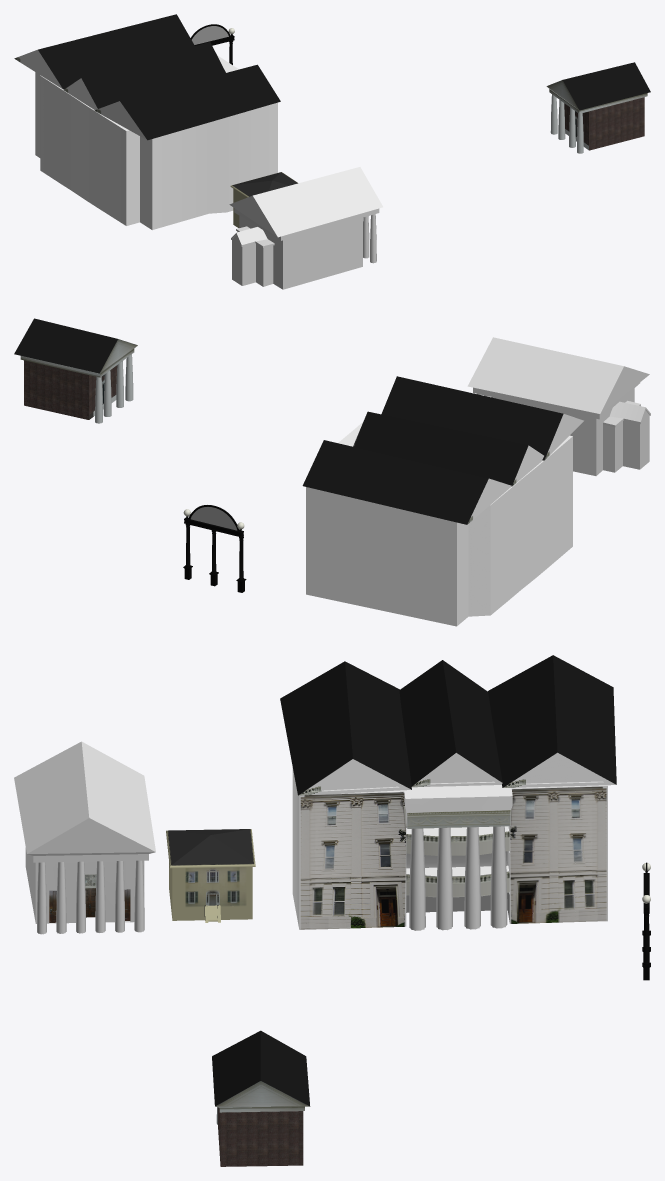
Rendered from set.fbx.
The picture shows the model from 3 angles, top to bottom: view 1: azimuth 30°, elevation 25°; view 2: azimuth 150°, elevation 25°; view 3: azimuth 270°, elevation 25°; orthographic projection. The views are drawn at different scales.
Parts seen in each view (by area): view 1: HolmesHunter, chapel, phiKappa, Chapel, Demosthenian, ChapelPillars, polySurface13; view 2: HolmesHunter, chapel, phiKappa, Chapel, polySurface13; view 3: HolmesHunter, chapel, phiKappa, Demosthenian, ChapelPillars, HHcolumn2, HHcolumn1, HHcolumn3, HHcolumn4.
Part boxes in pixels (x1,y1,x2,y2): HolmesHunter: (14,14,280,229); chapel: (229,167,382,289); phiKappa: (546,62,650,153); Chapel: (231,226,274,286); Demosthenian: (230,172,298,227); ChapelPillars: (363,214,376,263); polySurface13: (192,26,228,44); HolmesHunter: (302,376,583,626); chapel: (467,337,649,475); phiKappa: (14,318,137,423); Chapel: (603,400,650,472); polySurface13: (190,507,237,530); HolmesHunter: (280,655,616,929); chapel: (14,741,155,923); phiKappa: (212,1030,310,1166); Demosthenian: (166,829,255,920); ChapelPillars: (37,860,144,934); HHcolumn2: (490,826,507,928); HHcolumn1: (409,828,425,930); HHcolumn3: (436,827,452,930); HHcolumn4: (464,827,480,929).
Size of the model in its own units: 668 by 156 by 522.
